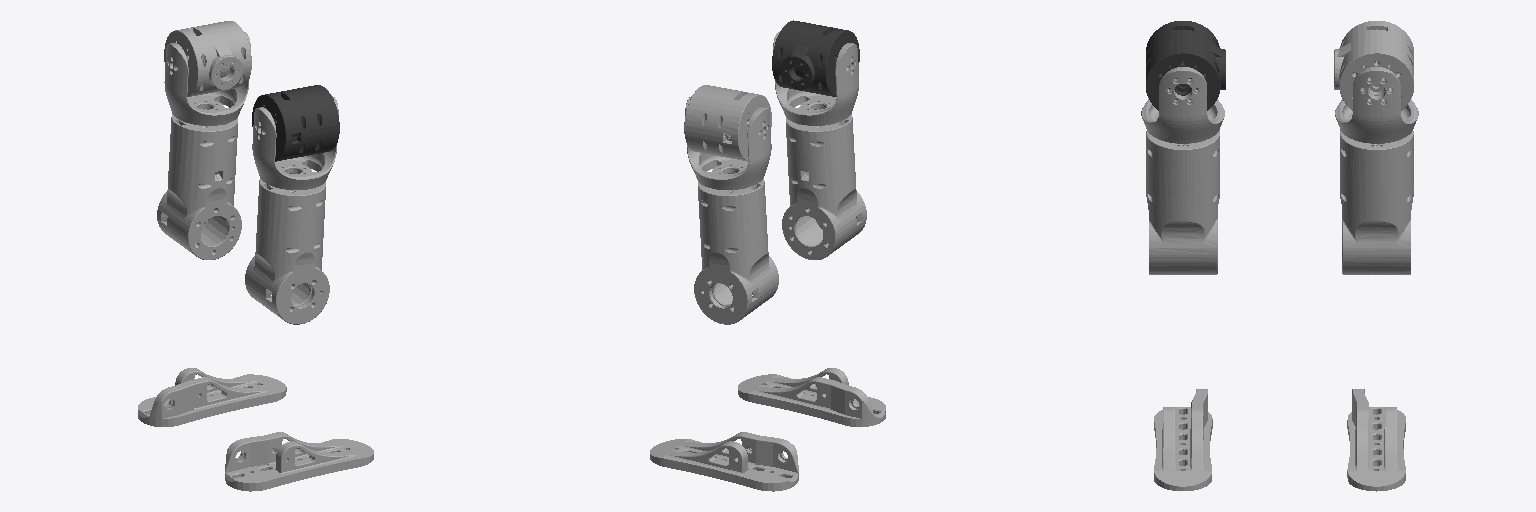
URDF robot description (roboyi):
<?xml version='1.0' encoding='utf-8'?>
<robot name="roboyi">
  <!-- Canonical zero: upright torso and both actual sole planes horizontal. -->
  <!-- Frames: +X forward, +Y left, +Z up at standard zero. Mesh coordinates remain unchanged. -->
  <link name="base_link">
    <inertial>
      <origin xyz="0.00081978607000000002 -4.7771069000000002e-07 0.059153999999999998" rpy="-1.5707963000000003 -0 -1.5707963267948966" />
      <mass value="3.7574283266061497" />
      <inertia ixx="0.0044076350690907783" ixy="-9.9964814753144741e-08" ixz="-8.111998653359398e-08" iyy="0.0061890715599284734" iyz="-2.5843009227751238e-06" izz="0.00303127415467492" />
    </inertial>
    <visual>
      <origin xyz="0 0 0" rpy="-1.5707963000000003 -0 -1.5707963267948966" />
      <geometry>
        <mesh filename="./base_link.STL" />
      </geometry>
      <material name="">
        <color rgba="0.698039215686274 0.698039215686274 0.698039215686274 1" />
      </material>
    </visual>
    <collision>
      <origin xyz="0 0 0" rpy="-1.5707963000000003 -0 -1.5707963267948966" />
      <geometry>
        <mesh filename="./base_link.STL" />
      </geometry>
    </collision>
  </link>
  <link name="Left_hip_pitch_link">
    <inertial>
      <origin xyz="0.0048968672000000001 -2.9033168179176126e-05 -0.0018220195007779413" rpy="0 -1.5707963000000003 -1.5707963267948966" />
      <mass value="0.64526818076760761" />
      <inertia ixx="0.00029990106205843417" ixy="2.5477941715977377e-06" ixz="-4.6416888190534962e-06" iyy="0.00028663518194895361" iyz="-9.0988372189842116e-07" izz="0.00025101469135294579" />
    </inertial>
    <visual>
      <origin xyz="0 0 0" rpy="0 -1.5707963000000003 -1.5707963267948966" />
      <geometry>
        <mesh filename="./Left_hip_pitch_link.STL" />
      </geometry>
      <material name="">
        <color rgba="0.698039215686274 0.698039215686274 0.698039215686274 1" />
      </material>
    </visual>
    <collision>
      <origin xyz="0 0 0" rpy="0 -1.5707963000000003 -1.5707963267948966" />
      <geometry>
        <mesh filename="./Left_hip_pitch_link.STL" />
      </geometry>
    </collision>
  </link>
  <joint name="Left_pitch" type="revolute">
    <origin xyz="0 0.095549999999999996 0" rpy="0 0 0" />
    <parent link="base_link" />
    <child link="Left_hip_pitch_link" />
    <axis xyz="0 0.99999999999999967 2.6794896468285145e-08" />
    <!-- Joint velocity cap: 3 rad/s, selected by user for simulation. -->
    <limit lower="-0.7853981633974483" upper="0.7853981633974483" effort="20" velocity="3" />
    <!-- Passive damping from RoboParty RPO MJCF; not controller kv. Armature: ../../actuator_parameters.json -->
    <dynamics damping="0.01" friction="0" />
  </joint>
  <link name="Left_hip_roll_link">
    <inertial>
      <origin xyz="-0.0029943079714811333 1.6930942114411756e-07 -0.040751167979705752" rpy="-1.5702167059881034 -1.5502970496450643 1.5713759223219319" />
      <mass value="0.090123583695523271" />
      <inertia ixx="0.00011310086897263923" ixy="4.1439069206605694e-07" ixz="-5.2435198412024393e-06" iyy="0.00013354841811369182" iyz="5.5889616950520636e-08" izz="8.0693896103456854e-05" />
    </inertial>
    <visual>
      <origin xyz="0 0 0" rpy="-1.5702167059881034 -1.5502970496450643 1.5713759223219319" />
      <geometry>
        <mesh filename="./Left_hip_roll_link.STL" />
      </geometry>
      <material name="">
        <color rgba="0.698039215686274 0.698039215686274 0.698039215686274 1" />
      </material>
    </visual>
    <collision>
      <origin xyz="0 0 0" rpy="-1.5702167059881034 -1.5502970496450643 1.5713759223219319" />
      <geometry>
        <mesh filename="./Left_hip_roll_link.STL" />
      </geometry>
    </collision>
  </link>
  <joint name="Left_roll" type="revolute">
    <origin xyz="0 0 0" rpy="0 0 0" />
    <parent link="Left_hip_pitch_link" />
    <child link="Left_hip_roll_link" />
    <axis xyz="0.99840495999999979 -2.5239366007769048e-08 -0.056458185000000723" />
    <!-- Joint velocity cap: 3 rad/s, selected by user for simulation. -->
    <limit lower="-0.2617993877991494" upper="0.2617993877991494" effort="20" velocity="3" />
    <!-- Passive damping from RoboParty RPO MJCF; not controller kv. Armature: ../../actuator_parameters.json -->
    <dynamics damping="0.01" friction="0" />
  </joint>
  <link name="Left_thigh_link">
    <inertial>
      <origin xyz="-0.007788828415371157 0.0014672725768788918 -0.14282504672276111" rpy="-1.1856676610061091e-05 -0.02049930050077494 -1.5696369886552166" />
      <mass value="0.19010848634308719" />
      <inertia ixx="0.00042682897599999998" ixy="-9.4332368199999997e-07" ixz="-1.7936588600000001e-05" iyy="0.00051073936200000003" iyz="-2.36428444e-05" izz="0.00012220533780000001" />
    </inertial>
    <visual>
      <origin xyz="0 0 0" rpy="-1.1856676610061091e-05 -0.02049930050077494 -1.5696369886552166" />
      <geometry>
        <mesh filename="./Left_thigh_link.STL" />
      </geometry>
      <material name="">
        <color rgba="0.698039215686274 0.698039215686274 0.698039215686274 1" />
      </material>
    </visual>
    <collision>
      <origin xyz="0 0 0" rpy="-1.1856676610061091e-05 -0.02049930050077494 -1.5696369886552166" />
      <geometry>
        <mesh filename="./Left_thigh_link.STL" />
      </geometry>
    </collision>
  </link>
  <joint name="Left_yaw" type="revolute">
    <origin xyz="0 0 0" rpy="0 0 0" />
    <parent link="Left_hip_roll_link" />
    <child link="Left_thigh_link" />
    <axis xyz="-0.056458158014214548 1.1048946930609926e-05 -0.99840496699438386" />
    <!-- Joint velocity cap: 3 rad/s, selected by user for simulation. -->
    <limit lower="-0.7853981633974483" upper="0.7853981633974483" effort="20" velocity="3" />
    <!-- Passive damping from RoboParty RPO MJCF; not controller kv. Armature: ../../actuator_parameters.json -->
    <dynamics damping="0.01" friction="0" />
  </joint>
  <link name="Left_shank_link">
    <inertial>
      <origin xyz="-0.0044723140792279816 0.0038383136840725576 -0.083175899403099662" rpy="1.5912993005456109 -1.1778892621493076e-05 -3.1404372309200186" />
      <mass value="0.6386245501942025" />
      <inertia ixx="0.00065491899199999993" ixy="2.4584309399999999e-05" ixz="-3.2243838199999997e-07" iyy="0.00021530662999999996" iyz="6.9281991799999991e-06" izz="0.00072003282399999997" />
    </inertial>
    <visual>
      <origin xyz="0 0 0" rpy="1.5912993005456109 -1.1778892621493076e-05 -3.1404372309200186" />
      <geometry>
        <mesh filename="./Left_shank_link.STL" />
      </geometry>
      <material name="">
        <color rgba="0.298039215686275 0.298039215686275 0.298039215686275 1" />
      </material>
    </visual>
    <collision>
      <origin xyz="0 0 0" rpy="1.5912993005456109 -1.1778892621493076e-05 -3.1404372309200186" />
      <geometry>
        <mesh filename="./Left_shank_link.STL" />
      </geometry>
    </collision>
  </link>
  <joint name="Left_knee" type="revolute">
    <origin xyz="-0.010686270849996182 2.1412487745849085e-06 -0.19075024840609145" rpy="0 0 0" />
    <parent link="Left_thigh_link" />
    <child link="Left_shank_link" />
    <axis xyz="-4.2765178719626502e-06 -1.0000010040051914 -7.4438080841197907e-06" />
    <!-- Joint velocity cap: 3 rad/s, selected by user for simulation. -->
    <limit lower="-0.7853981633974483" upper="0.7853981633974483" effort="20" velocity="3" />
    <!-- Passive damping from RoboParty RPO MJCF; not controller kv. Armature: ../../actuator_parameters.json -->
    <dynamics damping="0.01" friction="0" />
  </joint>
  <link name="Left_foot_link">
    <inertial>
      <origin xyz="0.01860183646064301 -0.0020871300726757421 -0.014603367749412352" rpy="1.550220419333983 -0.056476295804712605 0.0011571189642978483" />
      <mass value="0.097160084273782463" />
      <inertia ixx="3.5118521199999993e-05" ixy="2.1638125599999997e-05" ixz="9.2049914599999999e-06" iyy="0.000214770808" iyz="-2.9529918599999996e-06" izz="0.00020181996799999998" />
    </inertial>
    <visual>
      <origin xyz="0 0 0" rpy="1.550220419333983 -0.056476295804712605 0.0011571189642978483" />
      <geometry>
        <mesh filename="./Left_foot_link.STL" />
      </geometry>
      <material name="">
        <color rgba="0.698039215686274 0.698039215686274 0.698039215686274 1" />
      </material>
    </visual>
    <collision>
      <origin xyz="0 0 0" rpy="1.550220419333983 -0.056476295804712605 0.0011571189642978483" />
      <geometry>
        <mesh filename="./Left_foot_link.STL" />
      </geometry>
    </collision>
  </link>
  <joint name="Left_ankle" type="revolute">
    <origin xyz="-0.011291361262941788 1.4633254180936722e-06 -0.19968213342354499" rpy="0 0 0" />
    <parent link="Left_shank_link" />
    <child link="Left_foot_link" />
    <axis xyz="-4.4270448456318714e-06 -1.0000010040322378 -8.8875273297067681e-08" />
    <!-- Joint velocity cap: 3 rad/s, selected by user for simulation. -->
    <limit lower="-0.7853981633974483" upper="0.7853981633974483" effort="20" velocity="3" />
    <!-- Passive damping from RoboParty RPO MJCF; not controller kv. Armature: ../../actuator_parameters.json -->
    <dynamics damping="0.01" friction="0" />
  </joint>
  <link name="Right_hip_pitch_link">
    <inertial>
      <origin xyz="0.0051368658999999999 0.00031307013285990286 0.00047993851161131837" rpy="0 1.5707963000000003 -1.5707963267948966" />
      <mass value="0.63329209000319076" />
      <inertia ixx="0.00029040576599999996" ixy="-5.5646505599999997e-07" ixz="5.7775643800000003e-06" iyy="0.00028449446199999999" iyz="-6.1471275599999992e-07" izz="0.00024415372799999996" />
    </inertial>
    <visual>
      <origin xyz="0 0 0" rpy="0 1.5707963000000003 -1.5707963267948966" />
      <geometry>
        <mesh filename="./Right_hip_pitch_link.STL" />
      </geometry>
      <material name="">
        <color rgba="0.298039215686275 0.298039215686275 0.298039215686275 1" />
      </material>
    </visual>
    <collision>
      <origin xyz="0 0 0" rpy="0 1.5707963000000003 -1.5707963267948966" />
      <geometry>
        <mesh filename="./Right_hip_pitch_link.STL" />
      </geometry>
    </collision>
  </link>
  <joint name="Right_pitch" type="revolute">
    <origin xyz="0 -0.095549999999999996 0" rpy="0 0 0" />
    <parent link="base_link" />
    <child link="Right_hip_pitch_link" />
    <axis xyz="0 0.99999999999999967 -2.6794896468285145e-08" />
    <!-- Joint velocity cap: 3 rad/s, selected by user for simulation. -->
    <limit lower="-0.7853981633974483" upper="0.7853981633974483" effort="20" velocity="3" />
    <!-- Passive damping from RoboParty RPO MJCF; not controller kv. Armature: ../../actuator_parameters.json -->
    <dynamics damping="0.01" friction="0" />
  </joint>
  <link name="Right_hip_roll_link">
    <inertial>
      <origin xyz="-0.0029930176740478771 2.7279892269671368e-06 -0.0407509017790939" rpy="-1.5713757549177609 -1.5502240778120953 -1.5713802949915798" />
      <mass value="0.090120926584103936" />
      <inertia ixx="0.000113100477" ixy="4.1252768199999996e-07" ixz="5.2439426199999999e-06" iyy="0.000133549192" iyz="-3.7002743399999998e-08" izz="8.0693251799999994e-05" />
    </inertial>
    <visual>
      <origin xyz="0 0 0" rpy="-1.5713757549177609 -1.5502240778120953 -1.5713802949915798" />
      <geometry>
        <mesh filename="./Right_hip_roll_link.STL" />
      </geometry>
      <material name="">
        <color rgba="0.698039215686274 0.698039215686274 0.698039215686274 1" />
      </material>
    </visual>
    <collision>
      <origin xyz="0 0 0" rpy="-1.5713757549177609 -1.5502240778120953 -1.5713802949915798" />
      <geometry>
        <mesh filename="./Right_hip_roll_link.STL" />
      </geometry>
    </collision>
  </link>
  <joint name="Right_roll" type="revolute">
    <origin xyz="0 0 0" rpy="0 0 0" />
    <parent link="Right_hip_pitch_link" />
    <child link="Right_hip_roll_link" />
    <axis xyz="0.99840496262023481 -2.8264947267691437e-08 -0.056458138663818151" />
    <!-- Joint velocity cap: 3 rad/s, selected by user for simulation. -->
    <limit lower="-0.2617993877991494" upper="0.2617993877991494" effort="20" velocity="3" />
    <!-- Passive damping from RoboParty RPO MJCF; not controller kv. Armature: ../../actuator_parameters.json -->
    <dynamics damping="0.01" friction="0" />
  </joint>
  <link name="Right_thigh_link">
    <inertial>
      <origin xyz="-0.0074148617478717255 -0.0014571358806038043 -0.14283201663192369" rpy="-1.1948615721715763e-05 0.020572218733985702 -1.5719598457477628" />
      <mass value="0.19365333724834438" />
      <inertia ixx="0.00043485009399999998" ixy="1.02174527e-06" ixz="1.8275214999999998e-05" iyy="0.00052028712399999997" iyz="-2.4120248600000001e-05" izz="0.00012445762559999999" />
    </inertial>
    <visual>
      <origin xyz="0 0 0" rpy="-1.1948615721715763e-05 0.020572218733985702 -1.5719598457477628" />
      <geometry>
        <mesh filename="./Right_thigh_link.STL" />
      </geometry>
      <material name="">
        <color rgba="0.698039215686274 0.698039215686274 0.698039215686274 1" />
      </material>
    </visual>
    <collision>
      <origin xyz="0 0 0" rpy="-1.1948615721715763e-05 0.020572218733985702 -1.5719598457477628" />
      <geometry>
        <mesh filename="./Right_thigh_link.STL" />
      </geometry>
    </collision>
  </link>
  <joint name="Right_yaw" type="revolute">
    <origin xyz="0 0 0" rpy="0 0 0" />
    <parent link="Right_hip_roll_link" />
    <child link="Right_thigh_link" />
    <axis xyz="-0.056458165126610234 6.1988971165927859e-05 -0.99840496472894069" />
    <!-- Joint velocity cap: 3 rad/s, selected by user for simulation. -->
    <limit lower="-0.7853981633974483" upper="0.7853981633974483" effort="20" velocity="3" />
    <!-- Passive damping from RoboParty RPO MJCF; not controller kv. Armature: ../../actuator_parameters.json -->
    <dynamics damping="0.01" friction="0" />
  </joint>
  <link name="Right_shank_link">
    <inertial>
      <origin xyz="-0.004472339108350821 -0.0038322282765394511 -0.083176376039807182" rpy="1.5913722187791861 1.1870526738311158e-05 -0.0011596007328169356" />
      <mass value="0.63862612503648275" />
      <inertia ixx="0.00065492888999999996" ixy="-2.4584771399999996e-05" ixz="3.2259379599999998e-07" iyy="0.00021530795999999996" iyz="6.927900839999999e-06" izz="0.00072004242799999997" />
    </inertial>
    <visual>
      <origin xyz="0 0 0" rpy="1.5913722187791861 1.1870526738311158e-05 -0.0011596007328169356" />
      <geometry>
        <mesh filename="./Right_shank_link.STL" />
      </geometry>
      <material name="">
        <color rgba="0.698039215686274 0.698039215686274 0.698039215686274 1" />
      </material>
    </visual>
    <collision>
      <origin xyz="0 0 0" rpy="1.5913722187791861 1.1870526738311158e-05 -0.0011596007328169356" />
      <geometry>
        <mesh filename="./Right_shank_link.STL" />
      </geometry>
    </collision>
  </link>
  <joint name="Right_knee" type="revolute">
    <origin xyz="-0.010686272208982316 1.1812590427450788e-05 -0.19075024797621687" rpy="0 0 0" />
    <parent link="Right_thigh_link" />
    <child link="Right_shank_link" />
    <axis xyz="9.7588191576509012e-08 -1.0000010018985794 -6.5474555886346764e-05" />
    <!-- Joint velocity cap: 3 rad/s, selected by user for simulation. -->
    <limit lower="-0.7853981633974483" upper="0.7853981633974483" effort="20" velocity="3" />
    <!-- Passive damping from RoboParty RPO MJCF; not controller kv. Armature: ../../actuator_parameters.json -->
    <dynamics damping="0.01" friction="0" />
  </joint>
  <link name="Right_foot_link">
    <inertial>
      <origin xyz="0.018606706645436805 0.0020439321992812677 -0.014603366651250874" rpy="1.5913722323677646 -0.056476297151601774 -0.003482414936810862" />
      <mass value="0.097160058354864395" />
      <inertia ixx="3.5118530999999997e-05" ixy="2.1638094799999998e-05" ixz="-9.2053632999999986e-06" iyy="0.00021477055599999998" iyz="2.9530155199999999e-06" izz="0.00020181968799999999" />
    </inertial>
    <visual>
      <origin xyz="0 0 0" rpy="1.5913722323677646 -0.056476297151601774 -0.003482414936810862" />
      <geometry>
        <mesh filename="./Right_foot_link.STL" />
      </geometry>
      <material name="">
        <color rgba="0.698039215686274 0.698039215686274 0.698039215686274 1" />
      </material>
    </visual>
    <collision>
      <origin xyz="0 0 0" rpy="1.5913722323677646 -0.056476297151601774 -0.003482414936810862" />
      <geometry>
        <mesh filename="./Right_foot_link.STL" />
      </geometry>
    </collision>
  </link>
  <joint name="Right_ankle" type="revolute">
    <origin xyz="-0.011291362682309578 1.3144340198143617e-05 -0.19968213291602444" rpy="0 0 0" />
    <parent link="Right_shank_link" />
    <child link="Right_foot_link" />
    <axis xyz="-0.0023188090413008705 -0.9991543899378712 -0.04107476448623848" />
    <!-- Joint velocity cap: 3 rad/s, selected by user for simulation. -->
    <limit lower="-0.7853981633974483" upper="0.7853981633974483" effort="20" velocity="3" />
    <!-- Passive damping from RoboParty RPO MJCF; not controller kv. Armature: ../../actuator_parameters.json -->
    <dynamics damping="0.01" friction="0" />
  </joint>
</robot>

--- Render facts (derived) ---
3 views of the same robot in one strip: view 1: azimuth 30°, elevation 25°; view 2: azimuth 150°, elevation 25°; view 3: azimuth 270°, elevation 25° (orthographic).
Model roboyi with 11 links and 10 joints (10 revolute), rooted at base_link, posed every joint at zero.
Visible links, largest first — view 1: Right_thigh_link, Left_thigh_link, Right_foot_link, Left_foot_link, Right_hip_pitch_link, Left_hip_pitch_link, Left_hip_roll_link, Right_hip_roll_link; view 2: Left_thigh_link, Right_thigh_link, Left_foot_link, Right_foot_link, Left_hip_pitch_link, Right_hip_pitch_link, Right_hip_roll_link, Left_hip_roll_link; view 3: Left_thigh_link, Right_thigh_link, Left_foot_link, Right_foot_link, Left_hip_pitch_link, Right_hip_pitch_link, Right_hip_roll_link, Left_hip_roll_link.
Boxes of the visible links, x1,y1,x2,y2 form: Right_thigh_link: (245,179,329,324); Left_thigh_link: (157,114,241,259); Right_foot_link: (225,432,373,491); Left_foot_link: (138,368,286,426); Right_hip_pitch_link: (252,85,339,161); Left_hip_pitch_link: (164,21,251,96); Left_hip_roll_link: (164,32,250,125); Right_hip_roll_link: (252,95,338,189); Left_thigh_link: (694,178,778,324); Right_thigh_link: (782,114,866,259); Left_foot_link: (650,432,798,491); Right_foot_link: (738,368,885,426); Left_hip_pitch_link: (684,85,771,161); Right_hip_pitch_link: (772,20,859,96); Right_hip_roll_link: (773,32,858,125); Left_hip_roll_link: (685,95,771,189); Left_thigh_link: (1340,130,1413,274); Right_thigh_link: (1146,130,1219,274); Left_foot_link: (1347,389,1405,491); Right_foot_link: (1154,389,1212,490); Left_hip_pitch_link: (1334,21,1413,110); Right_hip_pitch_link: (1146,21,1225,110); Right_hip_roll_link: (1141,67,1224,143); Left_hip_roll_link: (1335,67,1418,143).
Bounding box of the posed robot: 0.178 × 0.274 × 0.4543 m (x, y, z).
Meshes: 11 distinct files referenced, 8 mesh visuals loaded (8 binary STL); not drawn: 3 (reference not matched to a file when rendering).
